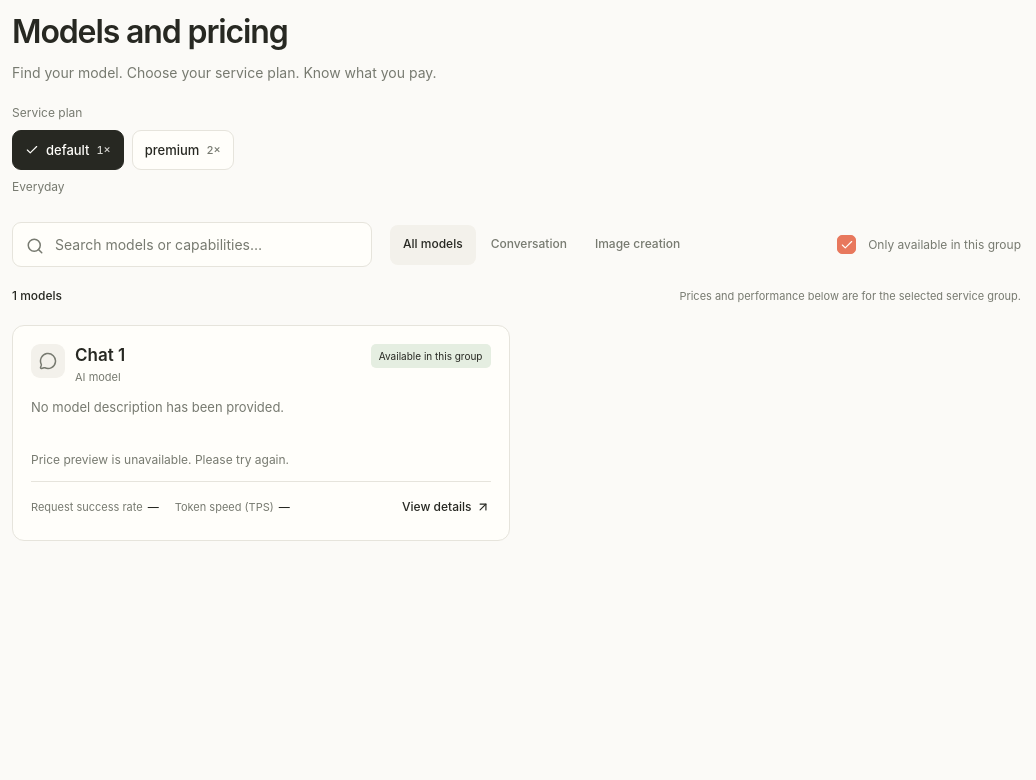
Scenario: keeps the group controls visible without listing unverified models while permissions load
expect the heading "Chat 1" is shown: met, box [75, 344, 125, 366]
Click the button "premium 2×".
click(183, 150)  # box [132, 130, 234, 170]
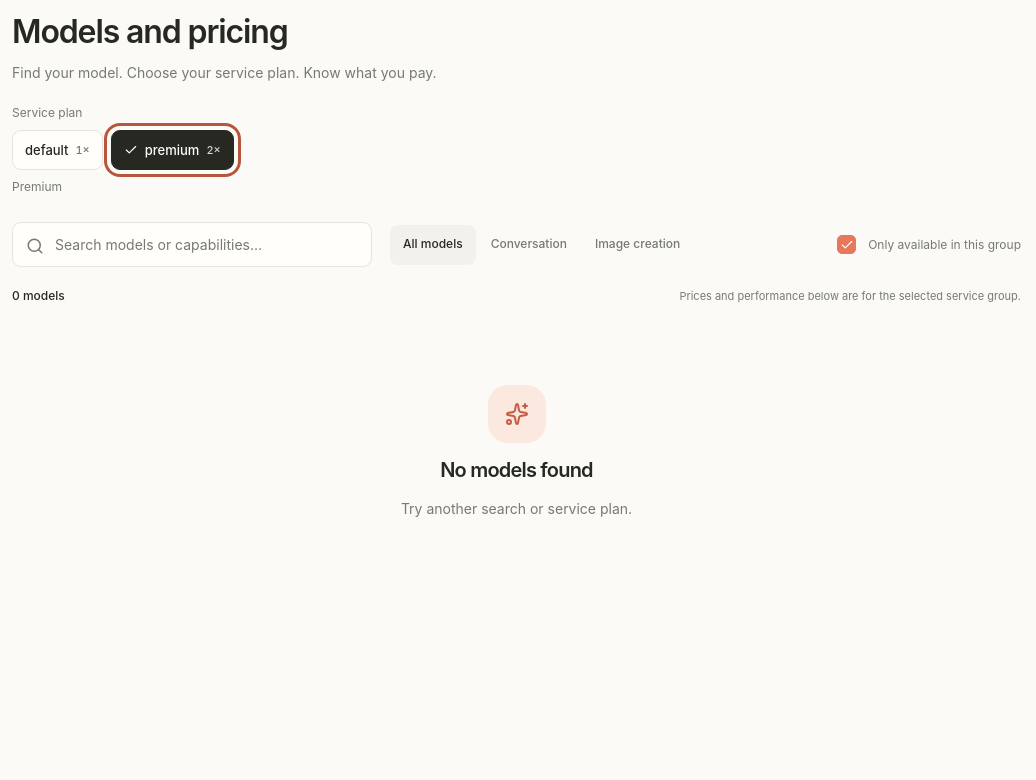
expect the element "Service plan" is shown: met, box [12, 105, 234, 194]
expect the button "Chat 1" is gone: met
expect the heading "No models found" is shown: met, box [440, 458, 593, 483]
